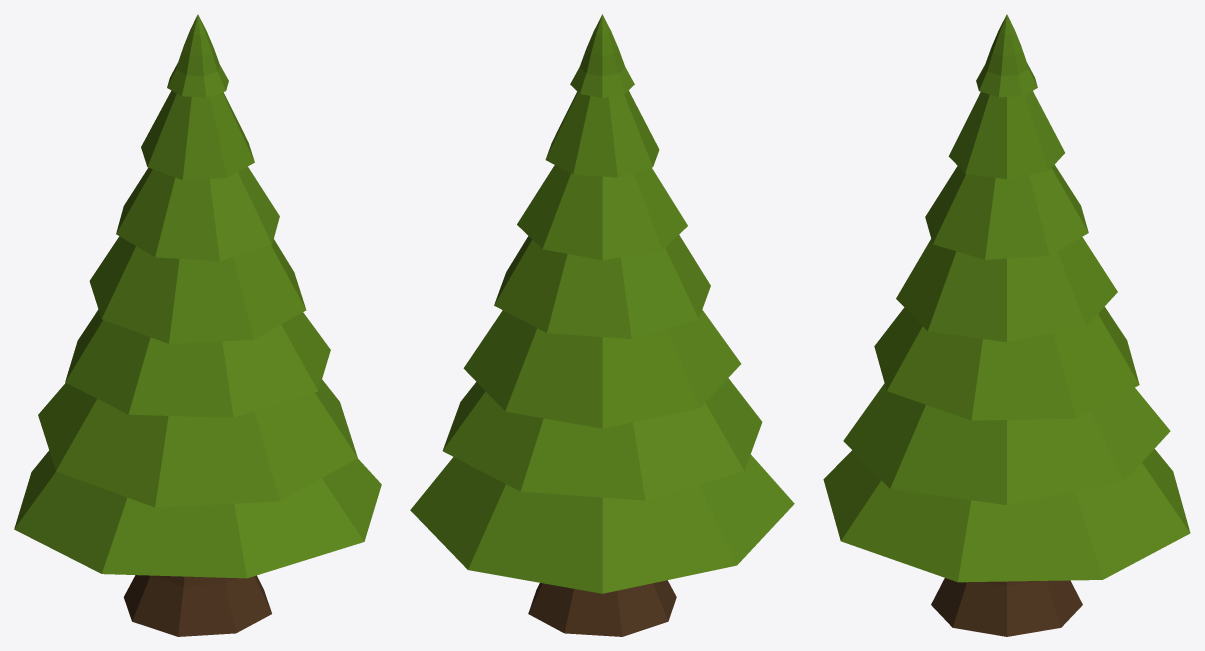
Rendered from Tree 001.fbx.
The picture shows the model from 3 angles, left to right: view 1: azimuth 30°, elevation 25°; view 2: azimuth 150°, elevation 25°; view 3: azimuth 270°, elevation 25°; orthographic projection.
Visible parts, largest first — view 1: Cube.004; view 2: Cube.004; view 3: Cube.004.
Part boxes in pixels (box(x1,y1,x2,y2)): Cube.004: box(14, 14, 381, 636); Cube.004: box(410, 14, 794, 636); Cube.004: box(823, 14, 1190, 636).
Bounding box in the file's own units: 514 × 912 × 514.
